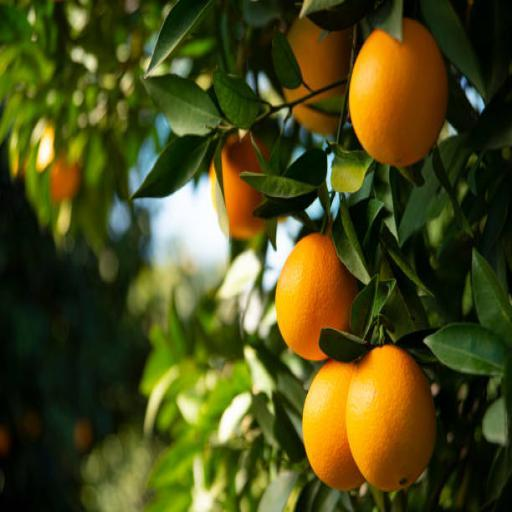orange: (349, 19, 448, 166), (346, 346, 435, 491), (276, 234, 358, 360)
